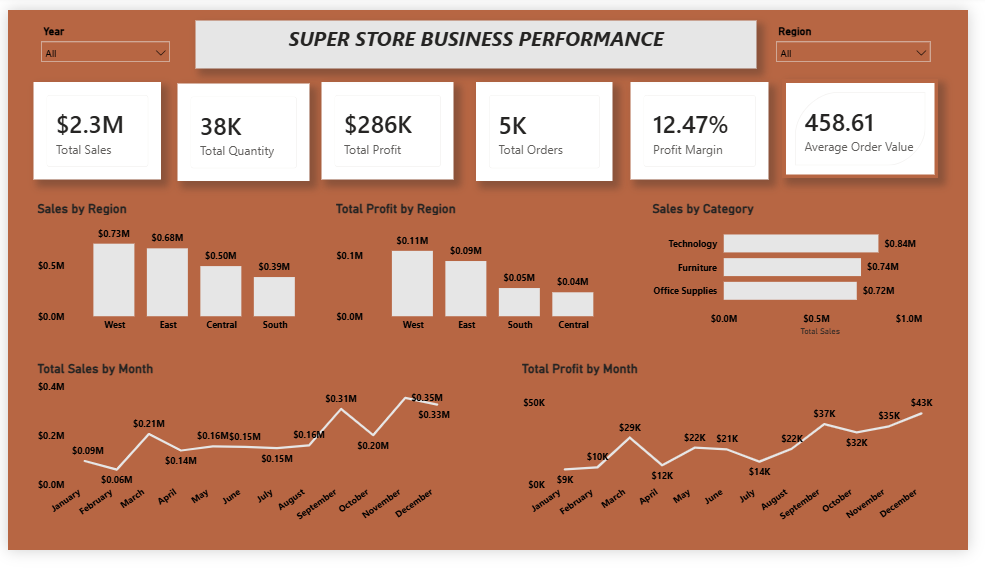

This screenshot's page, from the dashboard's own definition file:
{"tool":"powerbi","page":{"name":"WEEK3 EXECUTIVE DASHBOARD","canvas":[1280,720],"ordinal":1},"visuals":[{"type":"lineChart","fields":{"Category":["Sample_-_Superstore[1].Order Date.Variation.Date Hierarchy.Month"],"Y":["Sample_-_Superstore[1].Total Sales"]},"box":[34,468,560,232],"z":0},{"type":"lineChart","fields":{"Category":["Sample_-_Superstore[1].Order Date.Variation.Date Hierarchy.Month"],"Y":["Sample_-_Superstore[1].Total Profit"]},"box":[680,468,560,232],"z":1000},{"type":"cardVisual","fields":{"Data":["Sample_-_Superstore[1].Total Sales"]},"box":[34,96,170,130],"z":2000},{"type":"cardVisual","fields":{"Data":["Sample_-_Superstore[1].Total Orders"]},"box":[624,96,182,132],"z":3000},{"type":"cardVisual","fields":{"Data":["Sample_-_Superstore[1].Profit Margin"]},"box":[830,96,184,130],"z":4000},{"type":"cardVisual","fields":{"Data":["Sample_-_Superstore[1].Total Quantity"]},"box":[226,98,176,130],"z":5000},{"type":"cardVisual","fields":{"Data":["Sample_-_Superstore[1].Total Profit"]},"box":[418,96,176,130],"z":6000},{"type":"cardVisual","fields":{"Data":["Sample_-_Superstore[1].Average Order Value"]},"box":[1032,92,208,132],"z":7000},{"type":"textbox","box":[250,14,748,64],"z":8000},{"type":"clusteredColumnChart","fields":{"Category":["Sample_-_Superstore[1].Region"],"Y":["Sample_-_Superstore[1].Total Profit"]},"box":[432,254,384,184],"z":9000},{"type":"clusteredBarChart","title":"Sales by Category","fields":{"Category":["Sample_-_Superstore[1].Category"],"Y":["Sample_-_Superstore[1].Total Sales"]},"box":[854,254,380,184],"z":10000},{"type":"clusteredColumnChart","title":"Sales by Region","fields":{"Category":["Sample_-_Superstore[1].Region"],"Y":["Sample_-_Superstore[1].Total Sales"]},"box":[34,254,384,184],"z":11000},{"type":"slicer","fields":{"Values":["Sample_-_Superstore[1].Ship Date.Variation.Date Hierarchy.Year"]},"box":[34,14,192,64],"z":12000},{"type":"slicer","fields":{"Values":["Sample_-_Superstore[1].Region"]},"box":[1014,14,226,64],"z":13000}]}

Visuals, with their boxes on the page's 1280x720 design canvas (x1, y1, x2, y2). These are canvas units, not pixel positions in the 985x573 screenshot, which may show the page scaled, cropped or inside an application window:
lineChart - Sample_-_Superstore[1].Order Date.Variation.Date Hierarchy.Month x Sample_-_Superstore[1].Total Sales: box(34, 468, 594, 700)
lineChart - Sample_-_Superstore[1].Order Date.Variation.Date Hierarchy.Month x Sample_-_Superstore[1].Total Profit: box(680, 468, 1240, 700)
cardVisual - Sample_-_Superstore[1].Total Sales: box(34, 96, 204, 226)
cardVisual - Sample_-_Superstore[1].Total Orders: box(624, 96, 806, 228)
cardVisual - Sample_-_Superstore[1].Profit Margin: box(830, 96, 1014, 226)
cardVisual - Sample_-_Superstore[1].Total Quantity: box(226, 98, 402, 228)
cardVisual - Sample_-_Superstore[1].Total Profit: box(418, 96, 594, 226)
cardVisual - Sample_-_Superstore[1].Average Order Value: box(1032, 92, 1240, 224)
textbox: box(250, 14, 998, 78)
clusteredColumnChart - Sample_-_Superstore[1].Region x Sample_-_Superstore[1].Total Profit: box(432, 254, 816, 438)
"Sales by Category" clusteredBarChart: box(854, 254, 1234, 438)
"Sales by Region" clusteredColumnChart: box(34, 254, 418, 438)
slicer - Sample_-_Superstore[1].Ship Date.Variation.Date Hierarchy.Year: box(34, 14, 226, 78)
slicer - Sample_-_Superstore[1].Region: box(1014, 14, 1240, 78)
